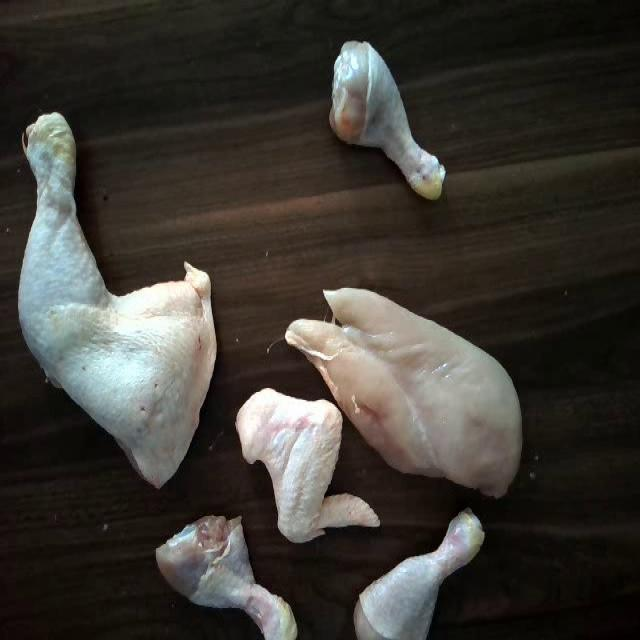breast: (283, 278, 520, 501)
leg: (323, 29, 455, 199), (147, 507, 307, 640), (346, 503, 496, 640)
quater: (1, 113, 222, 488)
wing: (226, 383, 379, 544)
